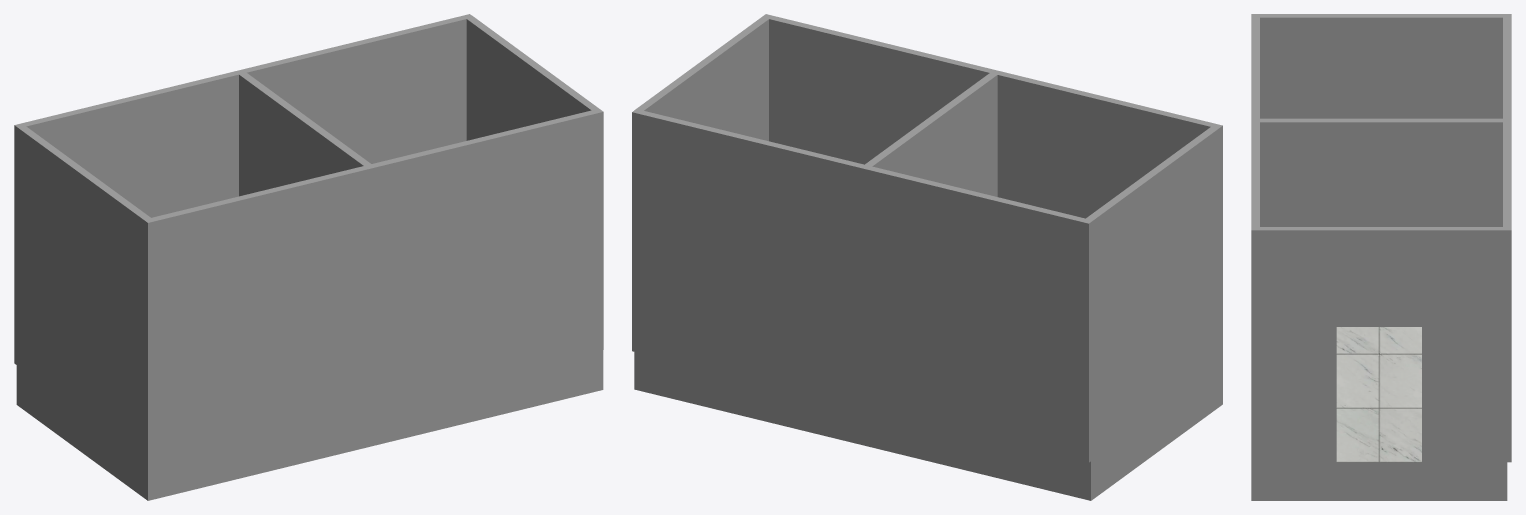
The model's file is BathRoom.fbx.
3 renders of one model, left to right at view 1: azimuth 30°, elevation 25°; view 2: azimuth 150°, elevation 25°; view 3: azimuth 270°, elevation 25°, orthographic. The views are drawn at different scales.
Parts seen in each view (by area): view 1: pCube32, pCube34, pCube33, pCube31, polySurface9, polySurface15; view 2: pCube34, pCube32, pCube33, pCube31, polySurface15, polySurface9; view 3: polySurface9, pCube33, polySurface15, pCube31, pCube34, pCube32.
Part boxes in pixels (left/top/right/bottom): pCube32: left=143, top=110, right=603, bottom=460; pCube34: left=14, top=14, right=473, bottom=364; pCube33: left=16, top=125, right=155, bottom=460; pCube31: left=16, top=350, right=603, bottom=500; polySurface9: left=465, top=15, right=603, bottom=350; polySurface15: left=239, top=72, right=375, bottom=404; pCube34: left=632, top=109, right=1093, bottom=462; pCube32: left=762, top=14, right=1222, bottom=364; pCube33: left=1084, top=123, right=1222, bottom=459; pCube31: left=634, top=352, right=1222, bottom=500; polySurface15: left=863, top=70, right=1000, bottom=196; polySurface9: left=634, top=14, right=770, bottom=141; polySurface9: left=1251, top=227, right=1507, bottom=462; pCube33: left=1252, top=14, right=1507, bottom=226; polySurface15: left=1251, top=118, right=1507, bottom=226; pCube31: left=1251, top=327, right=1507, bottom=500; pCube34: left=1503, top=14, right=1511, bottom=462; pCube32: left=1251, top=14, right=1259, bottom=230.
Size of the model in its own units: 6 by 3.5 by 3.05.
